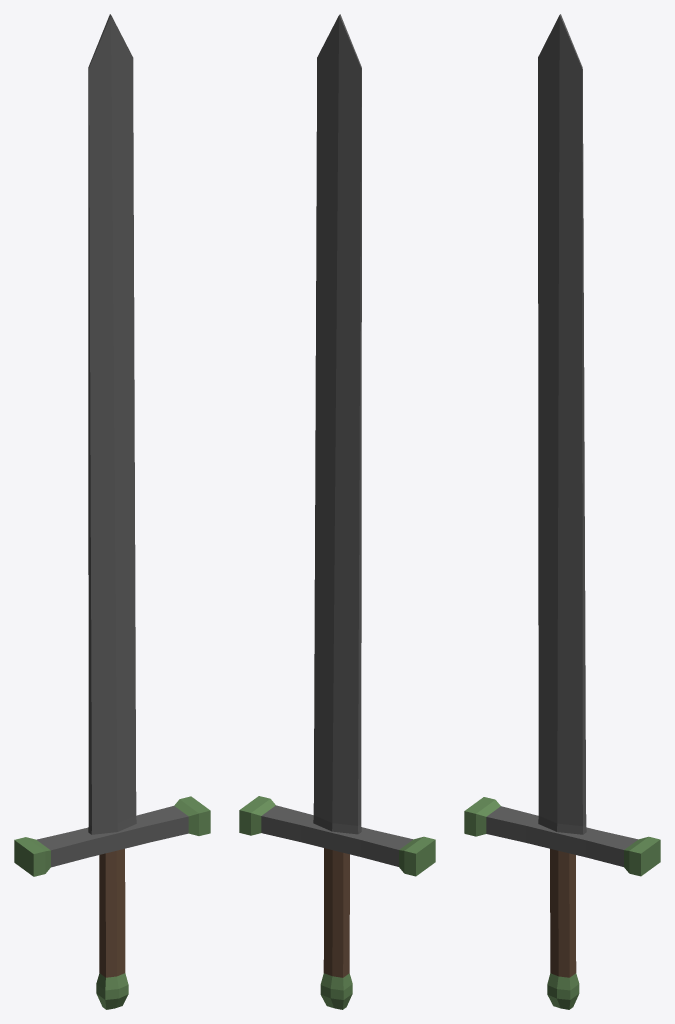
The model's file is Sword.fbx.
The picture shows the model from 3 angles, left to right: view 1: azimuth 30°, elevation 25°; view 2: azimuth 150°, elevation 25°; view 3: azimuth 330°, elevation 25°; orthographic projection.
Parts seen in each view (by area): view 1: Sword; view 2: Sword; view 3: Sword.
Part boxes in pixels (box(x1,y1,x2,y2)): Sword: box(14, 14, 210, 1009); Sword: box(239, 14, 435, 1009); Sword: box(464, 14, 660, 1009).
Bounding box in the file's own units: 17.89 × 95.96 × 3.43.
